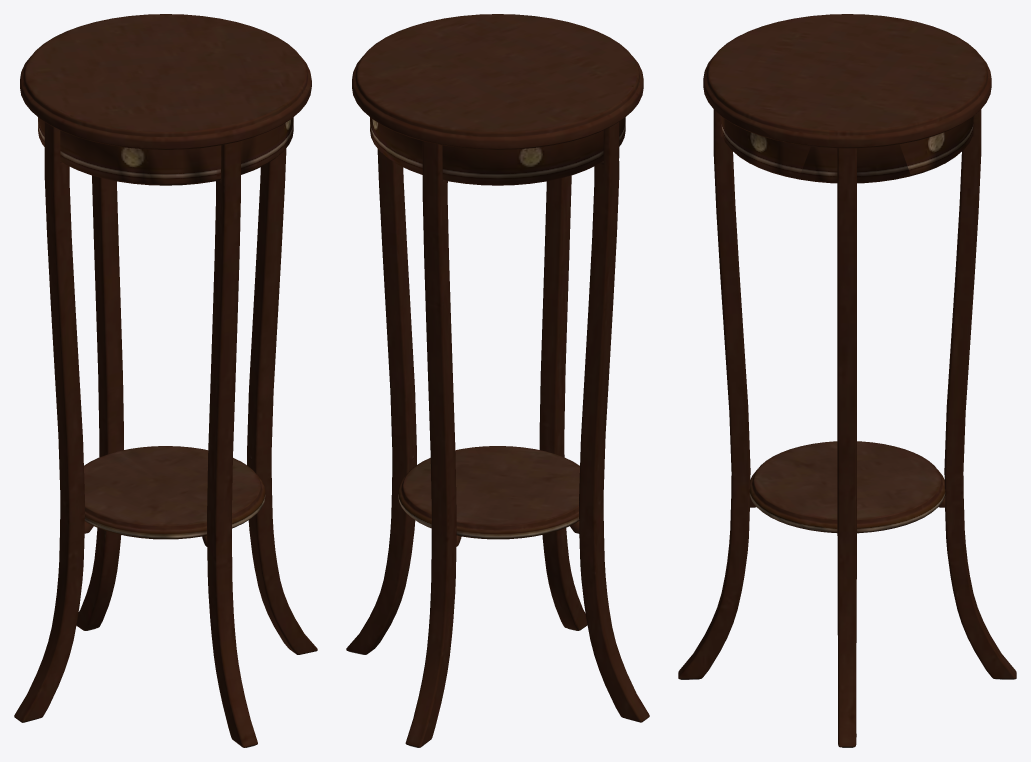
The model's file is side-table-round.glb.
3 views of the same model, side by side, from view 1: azimuth 30°, elevation 25°; view 2: azimuth 150°, elevation 25°; view 3: azimuth 270°, elevation 25° (orthographic).
Visible parts, largest first — view 1: side_table_tall_01; view 2: side_table_tall_01; view 3: side_table_tall_01.
Boxes of the visible parts, bbox=[...] form: side_table_tall_01: bbox=[14, 14, 317, 747]; side_table_tall_01: bbox=[346, 14, 649, 747]; side_table_tall_01: bbox=[678, 14, 1016, 747].
Size of the model in its own units: 0.385 by 0.76 by 0.385.
1 material, 1 textured.
